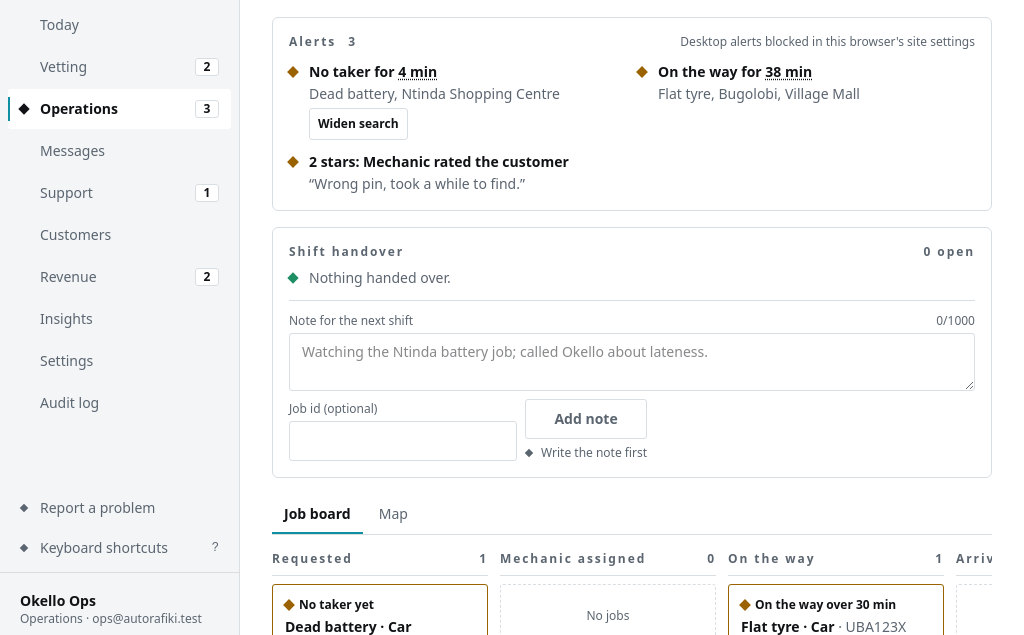
interventions › opens the widen form straight from the alert rail
Click the link "Widen search" at (358, 124), box [309,108,408,140]
(page scrolled)
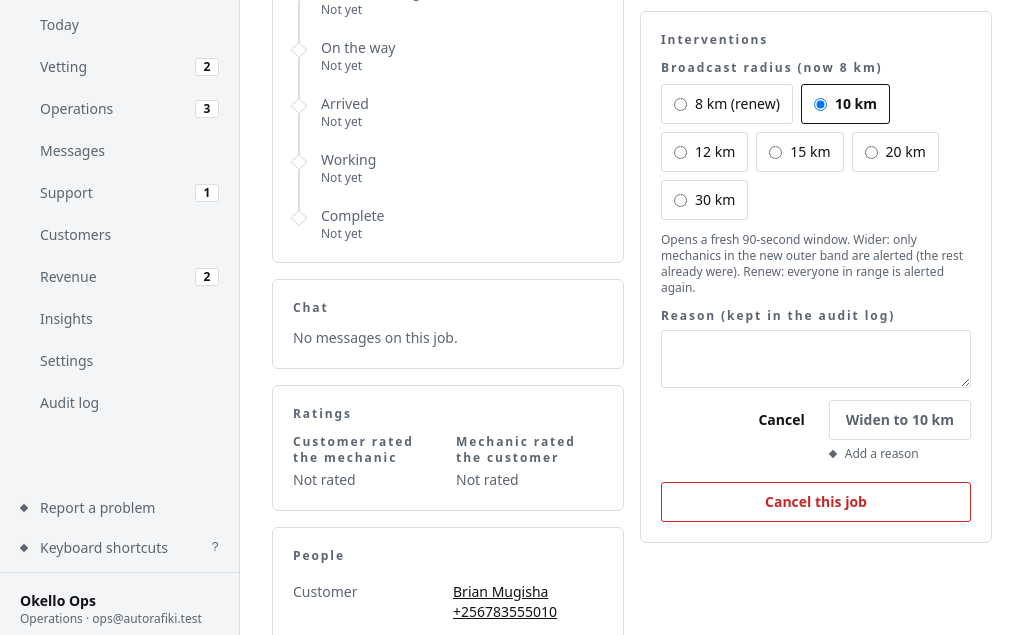
Expected: the form named "Widen the search" is shown, [661,60,971,462]
